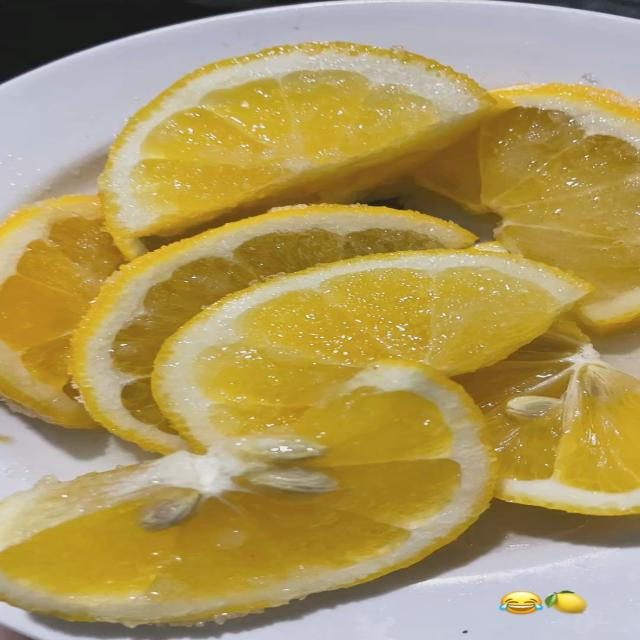lemon: (0, 361, 494, 625), (74, 205, 475, 453), (154, 251, 588, 450), (100, 43, 493, 257), (419, 84, 639, 332), (458, 323, 639, 514), (0, 196, 123, 427), (546, 591, 586, 613)
